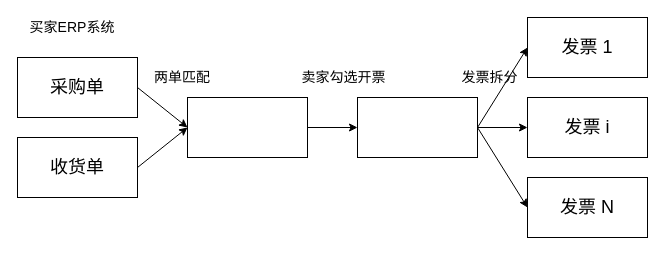
Some shapes in this 665 by 255 pixel diagram are drawn without their labels. Each missing label, with the centre of its shape:
对账单: the point at 247,127
形式发票 比对&协同: the point at 417,127
